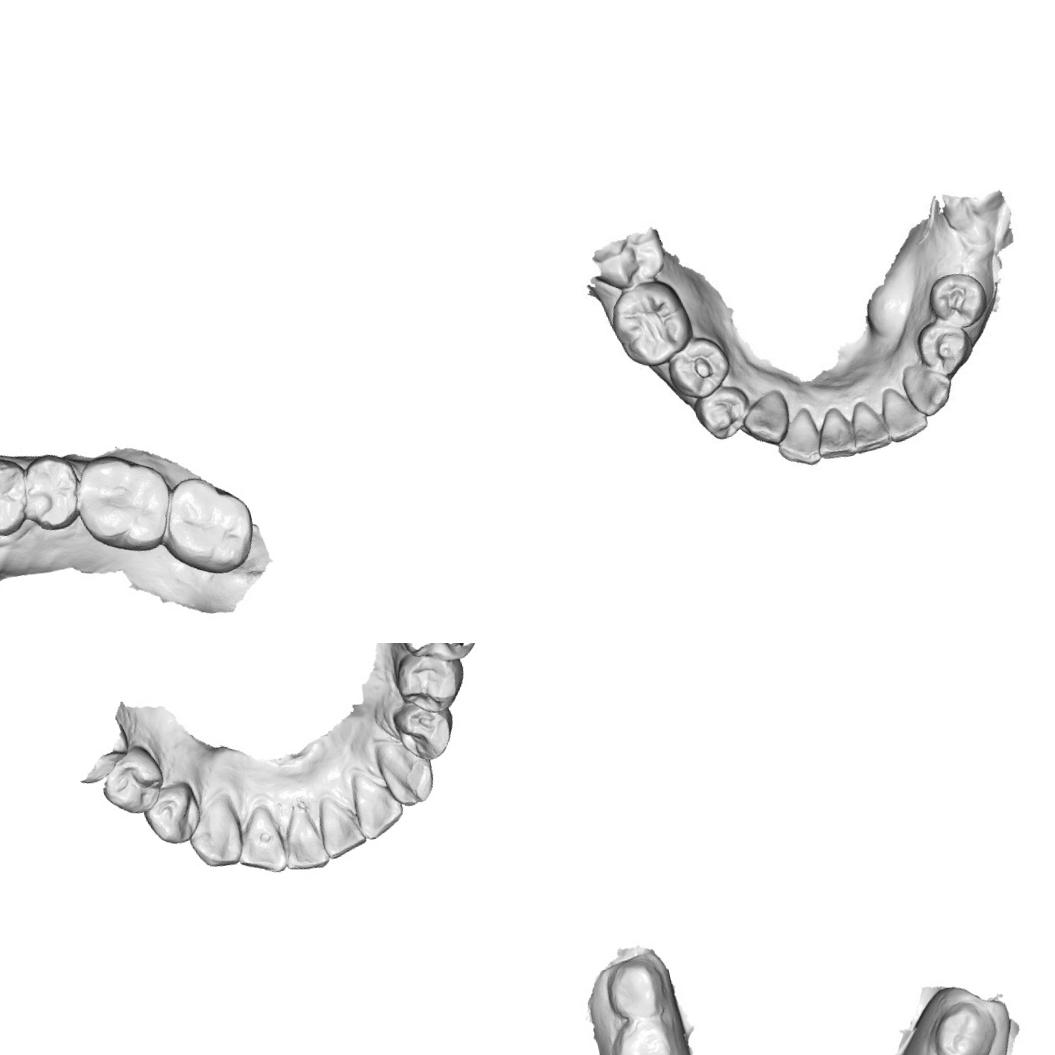canine: (180, 790, 253, 873), (371, 732, 440, 811), (734, 380, 798, 454), (902, 359, 954, 421)
incisor: (230, 807, 294, 882), (273, 800, 332, 878), (312, 787, 368, 861), (350, 767, 404, 838), (774, 408, 824, 469), (881, 384, 931, 444), (811, 402, 859, 461), (846, 398, 890, 458)
molar: (68, 442, 186, 564), (150, 465, 264, 586), (606, 278, 696, 370)
premolar: (388, 643, 472, 719), (96, 742, 172, 823), (16, 449, 86, 536), (388, 691, 461, 766), (140, 777, 208, 849), (910, 312, 979, 380), (924, 263, 993, 330), (672, 340, 729, 396), (0, 453, 35, 542), (696, 386, 750, 442)
